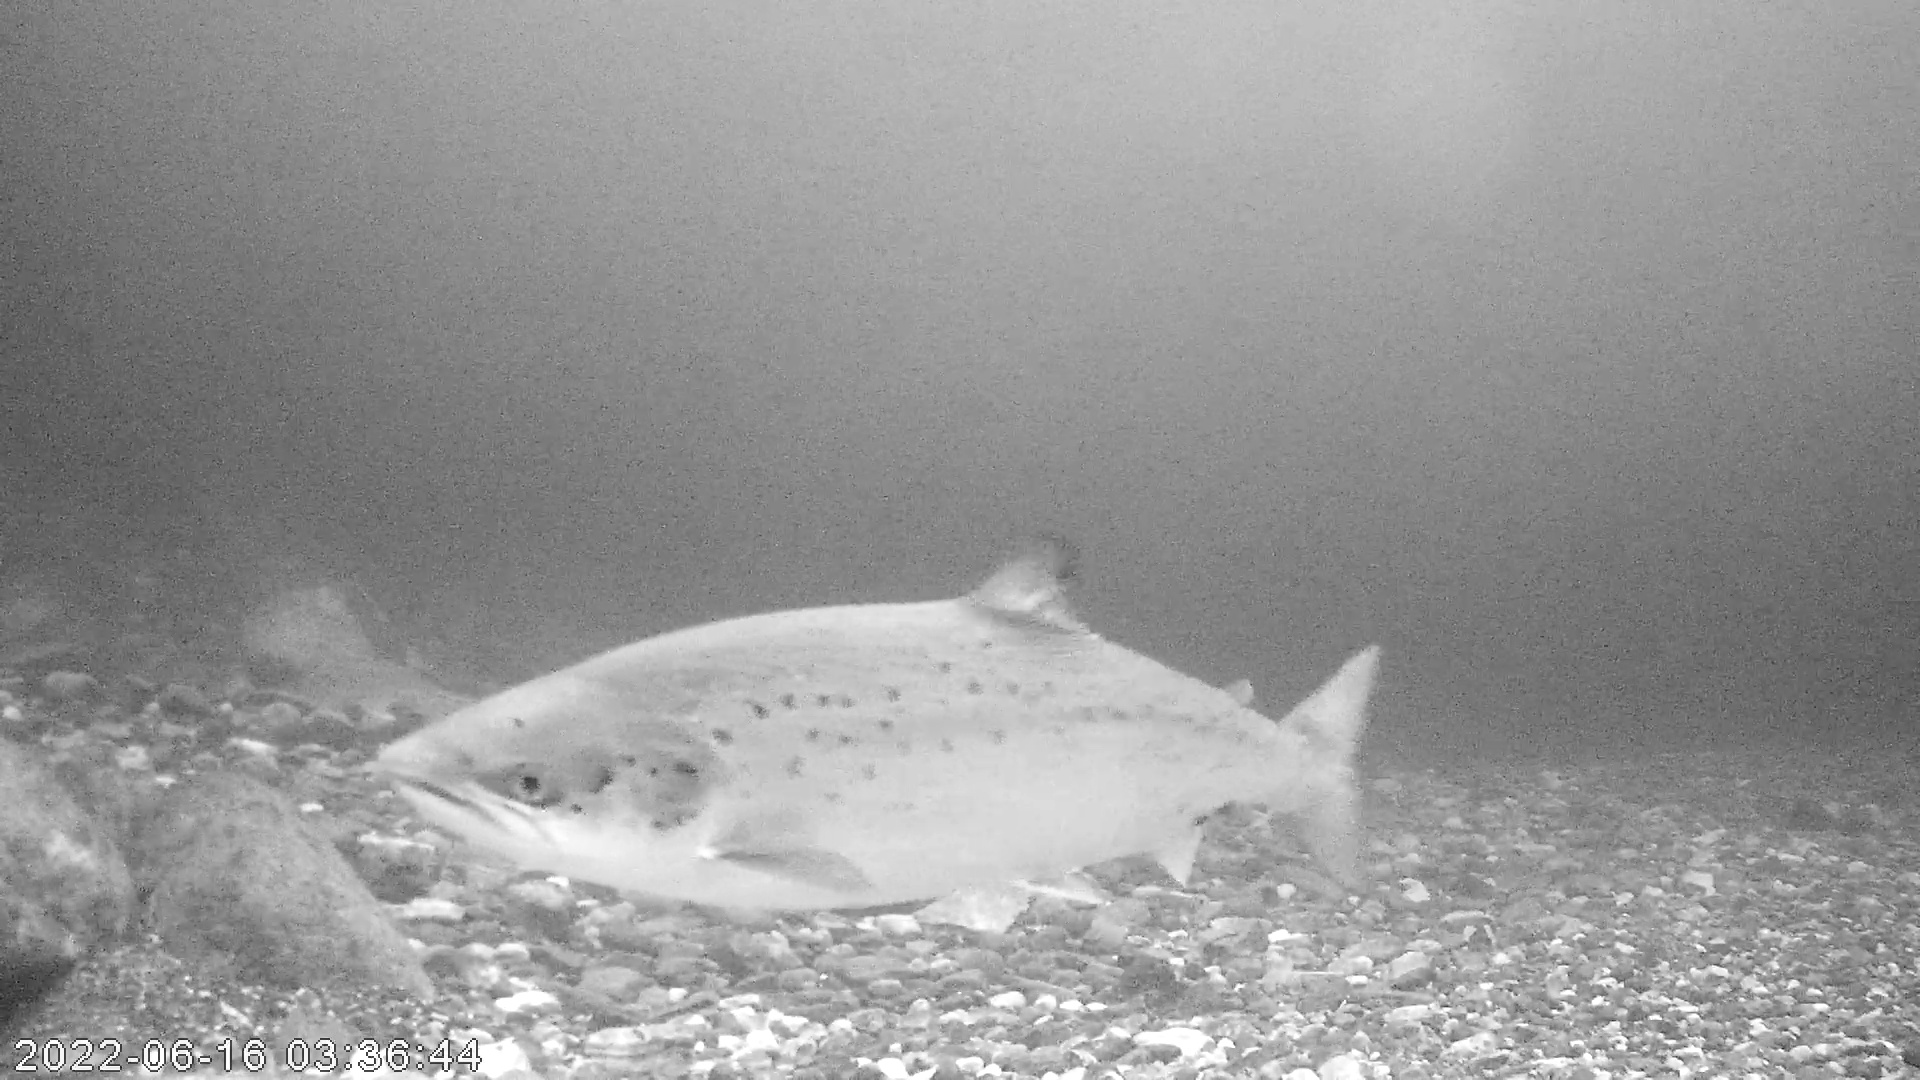salmon: (371, 531, 1387, 918)
